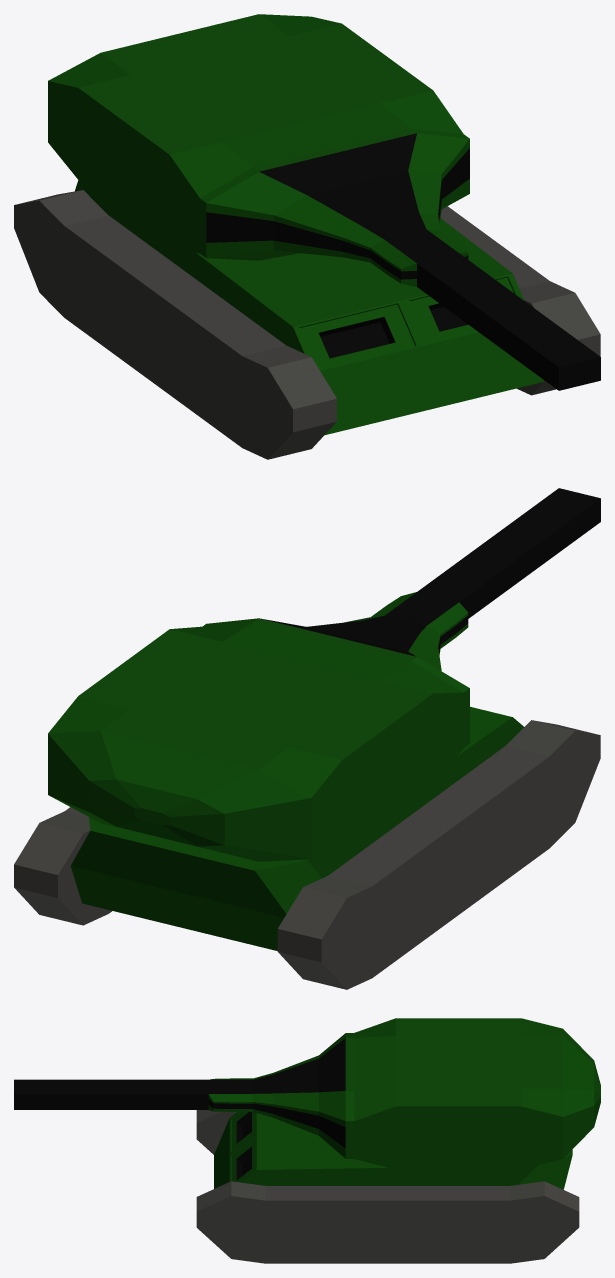
Rendered from tonk.fbx.
3 renders of one model, top to bottom at view 1: azimuth 30°, elevation 25°; view 2: azimuth 150°, elevation 25°; view 3: azimuth 270°, elevation 25°, orthographic. The views are drawn at different scales.
Parts seen in each view (by area): view 1: Cube.003, Cube.002; view 2: Cube.003, Cube.002; view 3: Cube.003, Cube.002.
Part boxes in pixels (x1,y1,x2,y2): Cube.003: (48,14,600,390); Cube.002: (14,180,600,459); Cube.003: (48,488,600,861); Cube.002: (14,706,600,989); Cube.003: (14,1018,600,1169); Cube.002: (196,1110,579,1263).
Bounding box in the file's own units: 700 × 476 × 1687.
